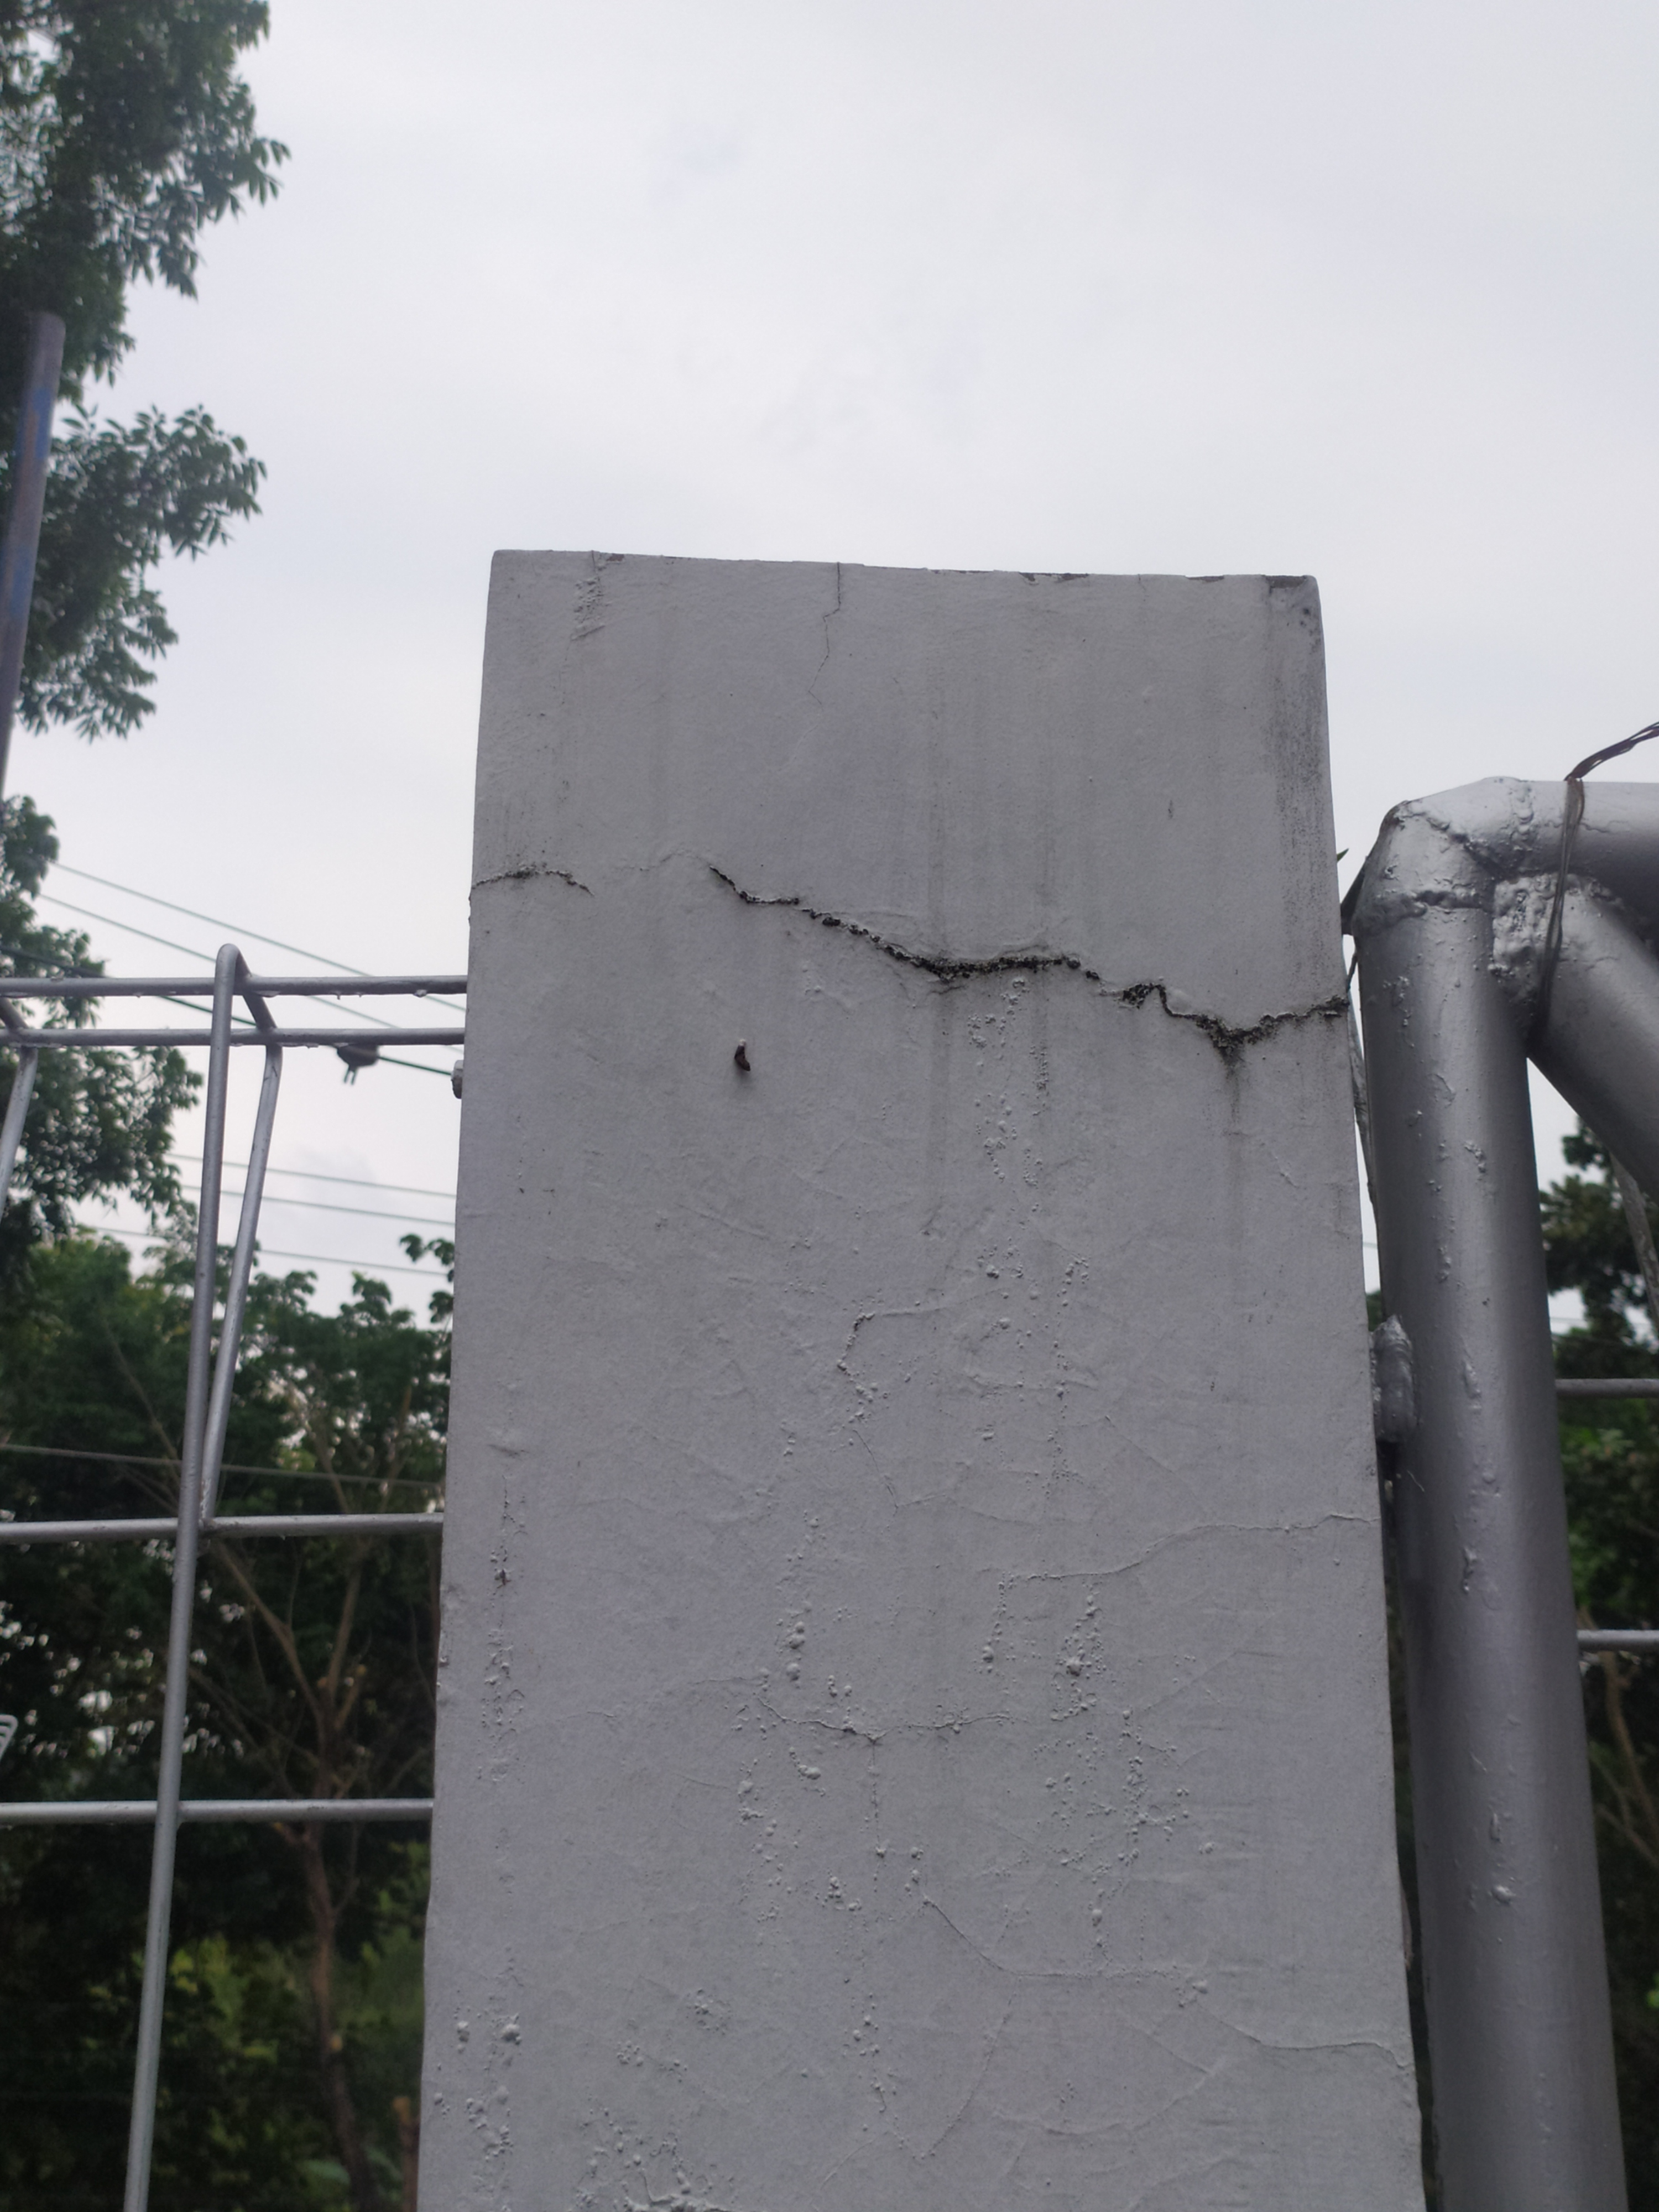crack: (479, 855, 1352, 1089)
